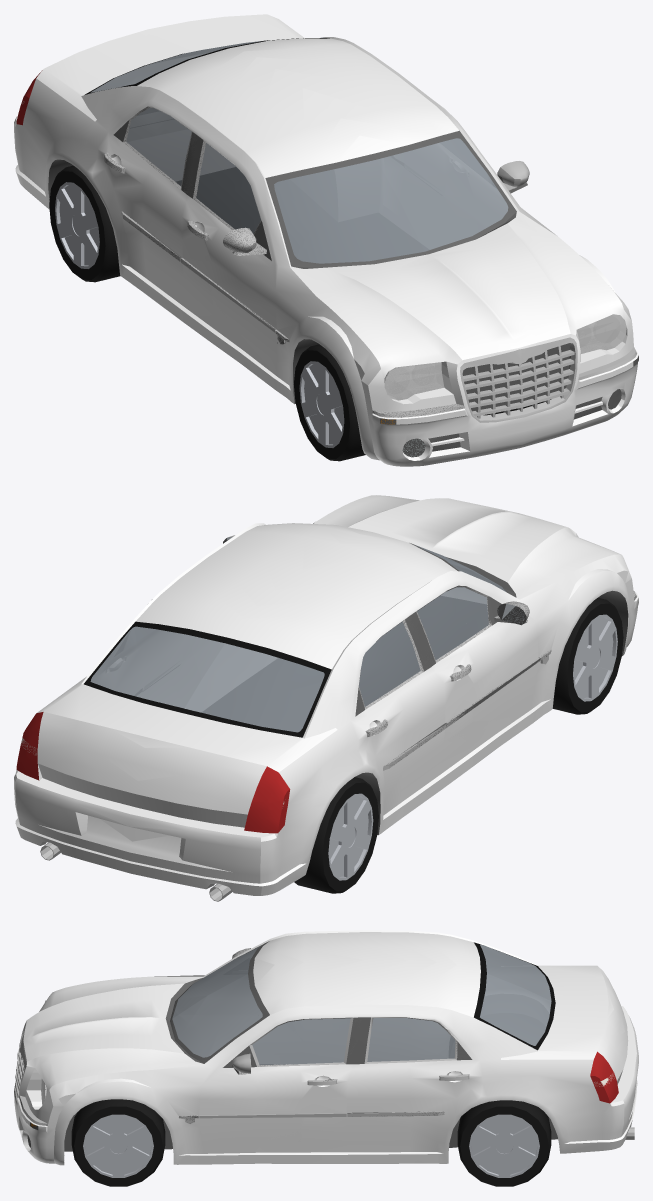
File: Sedan.FBX
3 views of the same model, one above another, from view 1: azimuth 30°, elevation 25°; view 2: azimuth 150°, elevation 25°; view 3: azimuth 270°, elevation 25° (orthographic). The views are drawn at different scales.
Visible parts, largest first — view 1: Sedan_Body, Sedan_Windows, Wheel_RR, Wheel_FR, Sedan_Headlights, Sedan_Grill; view 2: Sedan_Body, Sedan_Windows, Wheel_RR, Wheel_FR, Sedan_BrakeLights; view 3: Sedan_Body, Sedan_Windows, Wheel_FL, Wheel_RL, Sedan_BrakeLights.
Part boxes in pixels (x1,y1,x2,y2): Sedan_Body: (14, 14, 638, 466); Sedan_Windows: (91, 37, 508, 263); Wheel_RR: (49, 165, 120, 282); Wheel_FR: (293, 344, 365, 461); Sedan_Headlights: (384, 314, 626, 400); Sedan_Grill: (462, 343, 569, 411); Sedan_Body: (14, 495, 638, 895); Sedan_Windows: (90, 544, 506, 732); Wheel_RR: (294, 777, 378, 893); Wheel_FR: (552, 597, 623, 714); Sedan_BrakeLights: (16, 712, 290, 833); Sedan_Body: (14, 930, 638, 1165); Sedan_Windows: (172, 944, 551, 1064); Wheel_FL: (71, 1099, 165, 1186); Wheel_RL: (457, 1100, 551, 1186); Sedan_BrakeLights: (590, 1051, 618, 1103).
Size of the model in its own units: 74.68 by 169 by 52.19.
